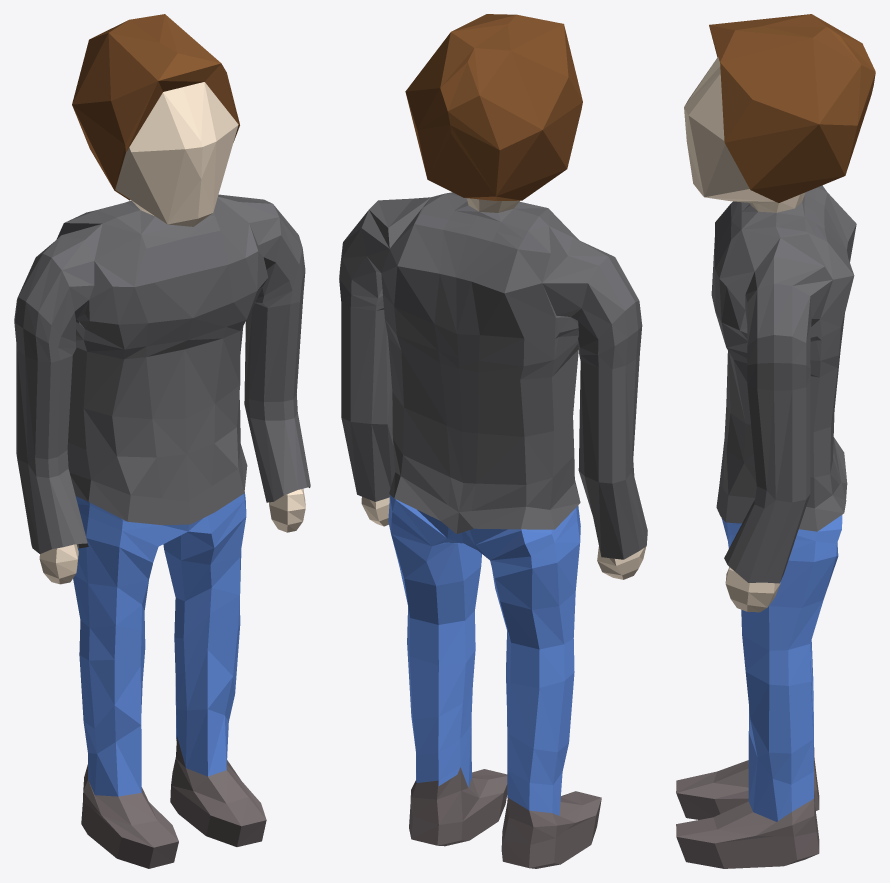
File: fixedchar.fbx
3 renders of one model, left to right at view 1: azimuth 30°, elevation 25°; view 2: azimuth 150°, elevation 25°; view 3: azimuth 270°, elevation 25°, orthographic. The views are drawn at different scales.
Visible parts, largest first — view 1: Sphere.001; view 2: Sphere.001; view 3: Sphere.001.
Part boxes in pixels (x1,y1,x2,y2): Sphere.001: (14, 14, 310, 868); Sphere.001: (339, 14, 647, 868); Sphere.001: (676, 14, 875, 868).
Bounding box in the file's own units: 161 × 436 × 97.85.
